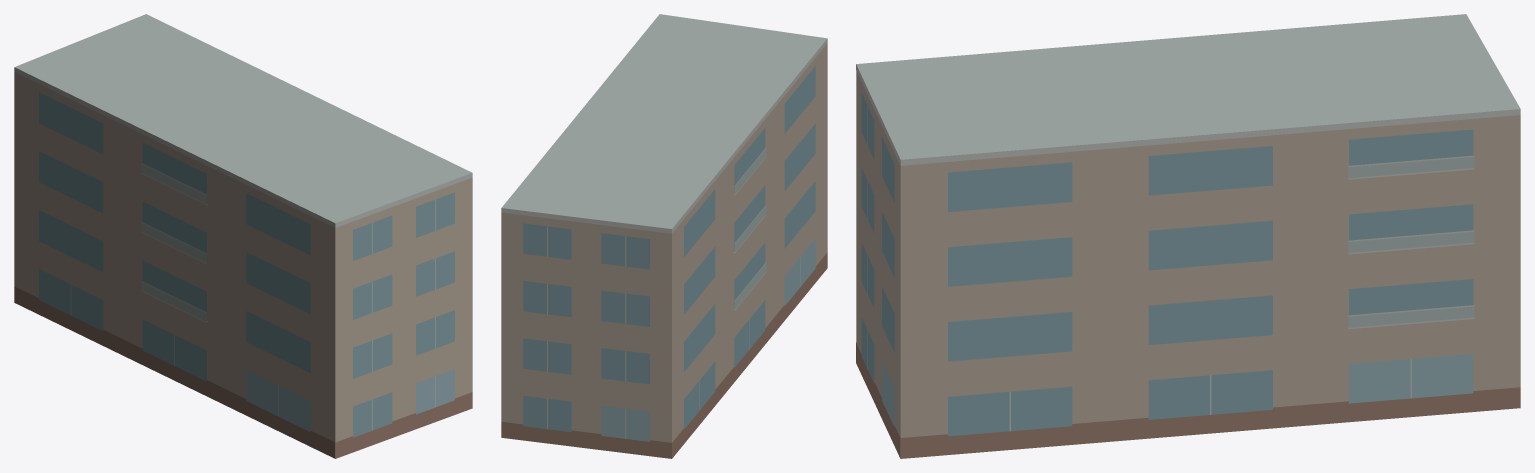
File: survey-upis-32636321.glb
3 renders of one model, left to right at view 1: azimuth 30°, elevation 25°; view 2: azimuth 150°, elevation 25°; view 3: azimuth 270°, elevation 25°, orthographic. The views are drawn at different scales.
Visible parts, largest first — view 1: survey-upis-32636321.tmp; view 2: survey-upis-32636321.tmp; view 3: survey-upis-32636321.tmp.
Boxes of the visible parts, x1,y1,x2,y2 form: survey-upis-32636321.tmp: [14, 14, 472, 458]; survey-upis-32636321.tmp: [501, 14, 827, 458]; survey-upis-32636321.tmp: [856, 14, 1520, 458].
Bounding box in the file's own units: 12.77 × 12.2 × 24.58.
